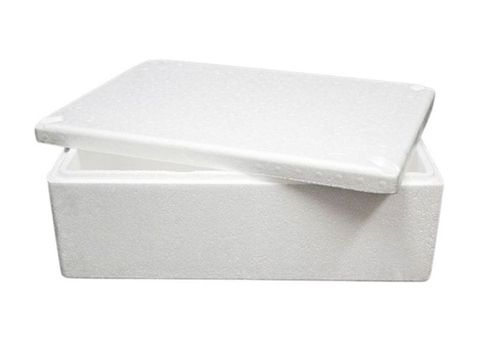泡沫箱: (35, 61, 442, 282)
